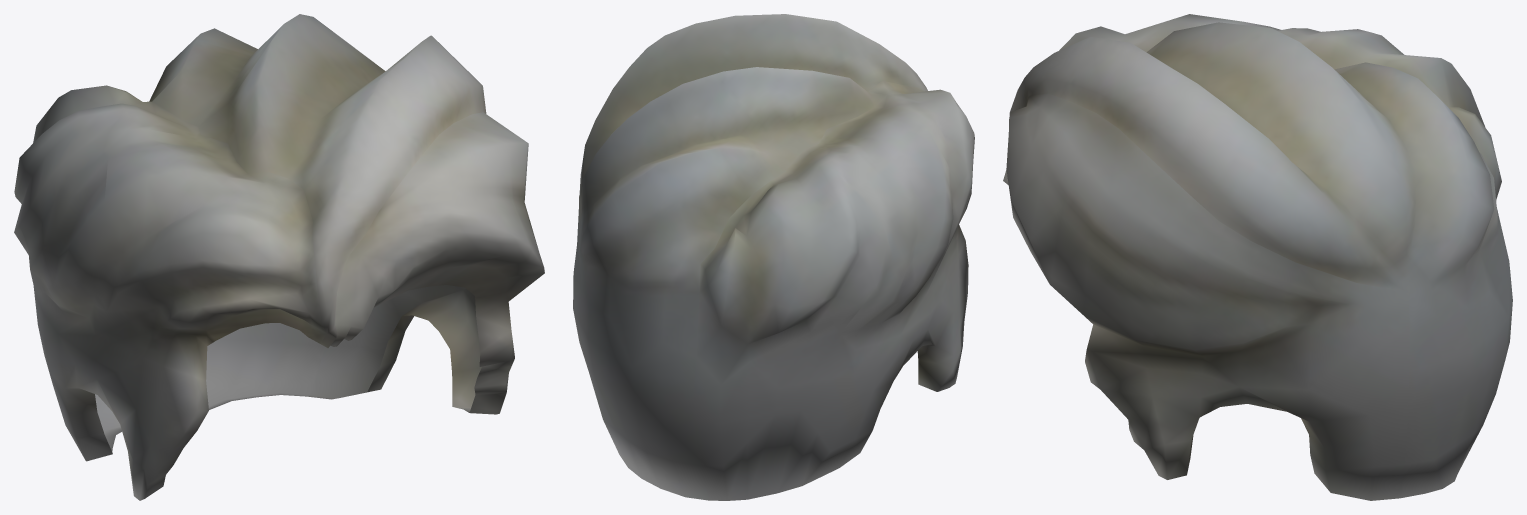
Rendered from cheveux_simpleparted.glb.
3 views of the same model, side by side, from view 1: azimuth 30°, elevation 25°; view 2: azimuth 150°, elevation 25°; view 3: azimuth 270°, elevation 25° (orthographic). The views are drawn at different scales.
Parts seen in each view (by area): view 1: Hair_SimpleParted; view 2: Hair_SimpleParted; view 3: Hair_SimpleParted.
Part boxes in pixels (x1,y1,x2,y2): Hair_SimpleParted: [14, 14, 544, 500]; Hair_SimpleParted: [573, 14, 974, 500]; Hair_SimpleParted: [1003, 14, 1512, 500].
Bounding box in the file's own units: 0.1754 × 0.1792 × 0.1869.
Materials: 1 (1 with a texture image).
